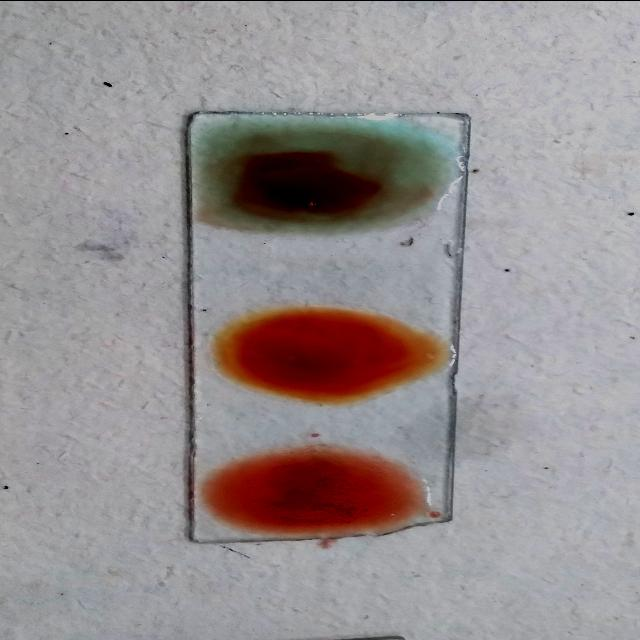D: (202, 455, 406, 536)
